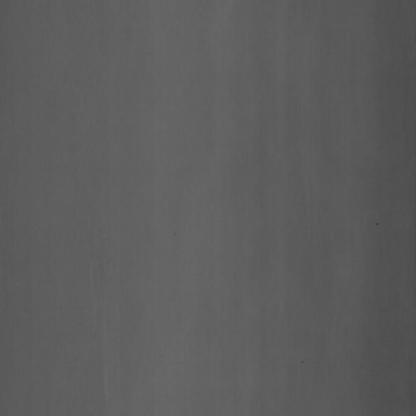inclusion: (371, 202, 385, 233)
